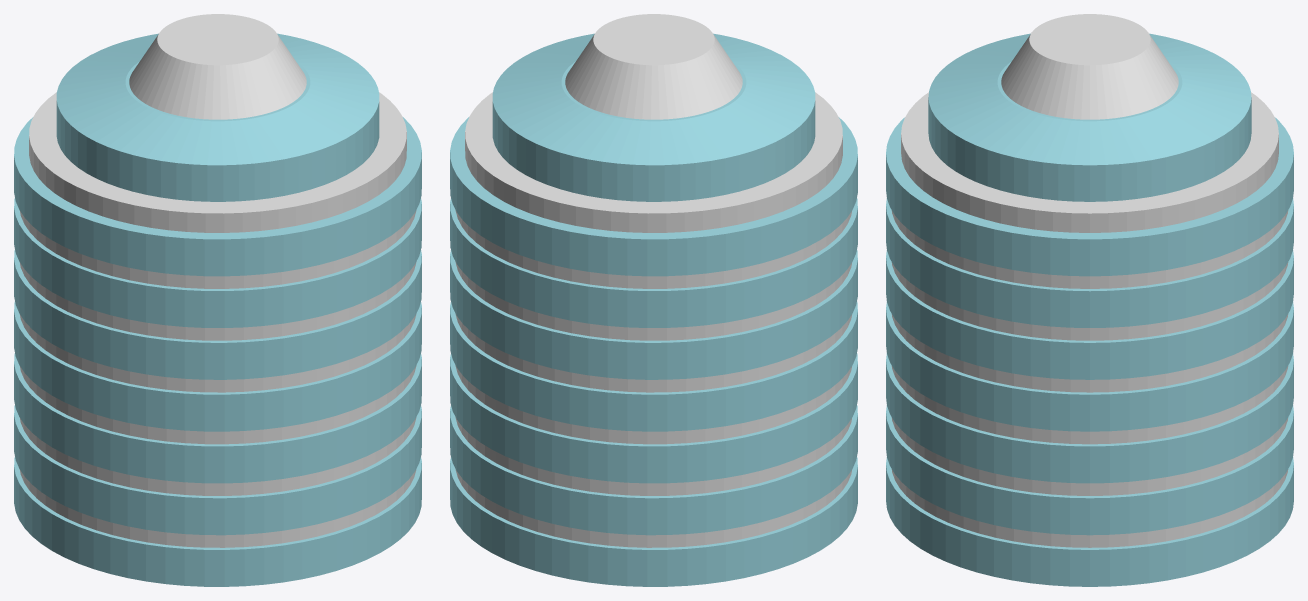
Rendered from oxygenProcessor.fbx.
3 views of the same model, side by side, from view 1: azimuth 30°, elevation 25°; view 2: azimuth 150°, elevation 25°; view 3: azimuth 270°, elevation 25° (orthographic).
Parts seen in each view (by area): view 1: Oxygen Cylinder Frame, Oxygen Cylinder Emitter; view 2: Oxygen Cylinder Frame, Oxygen Cylinder Emitter; view 3: Oxygen Cylinder Frame, Oxygen Cylinder Emitter.
Part boxes in pixels (<box>): Oxygen Cylinder Frame: <box>14,33,421,586</box>; Oxygen Cylinder Emitter: <box>19,14,416,547</box>; Oxygen Cylinder Frame: <box>450,33,857,586</box>; Oxygen Cylinder Emitter: <box>455,14,852,547</box>; Oxygen Cylinder Frame: <box>886,33,1293,586</box>; Oxygen Cylinder Emitter: <box>891,14,1288,547</box>.
Size of the model in its own units: 200 by 249 by 200.
